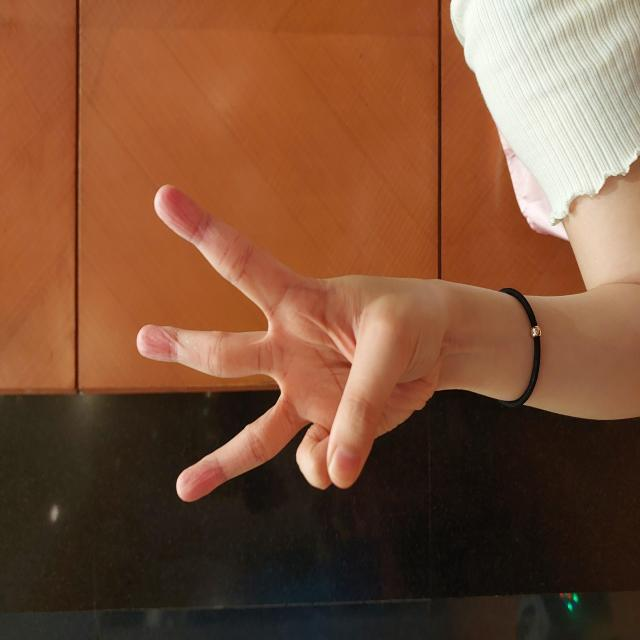W: (132, 135, 460, 447)
